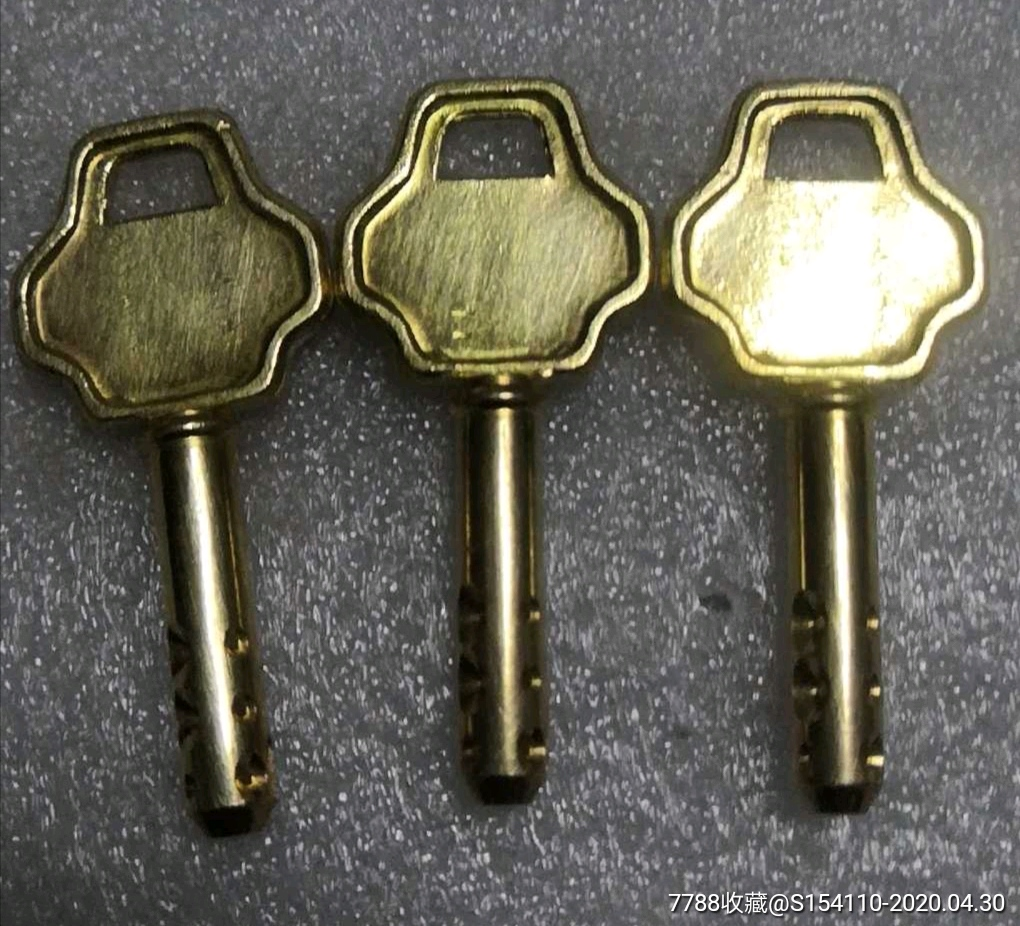key: (334, 54, 662, 813), (676, 62, 988, 822), (13, 95, 324, 839)
